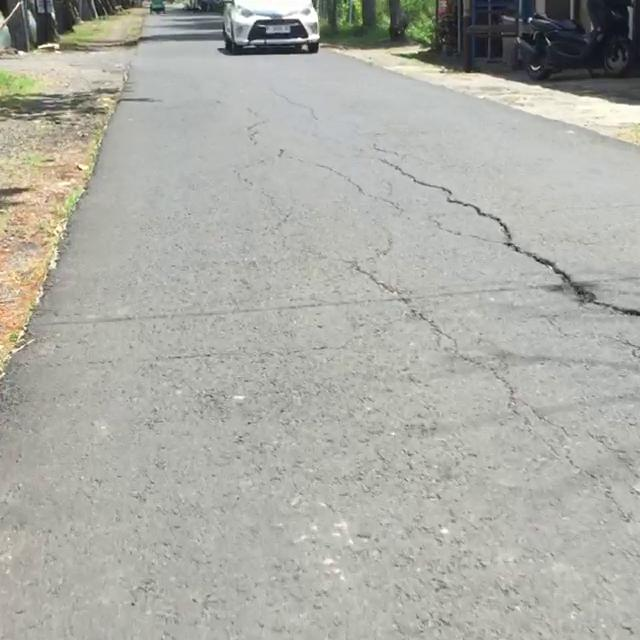retak_memanjang: (357, 140, 640, 325), (333, 266, 534, 400), (561, 452, 640, 640)
